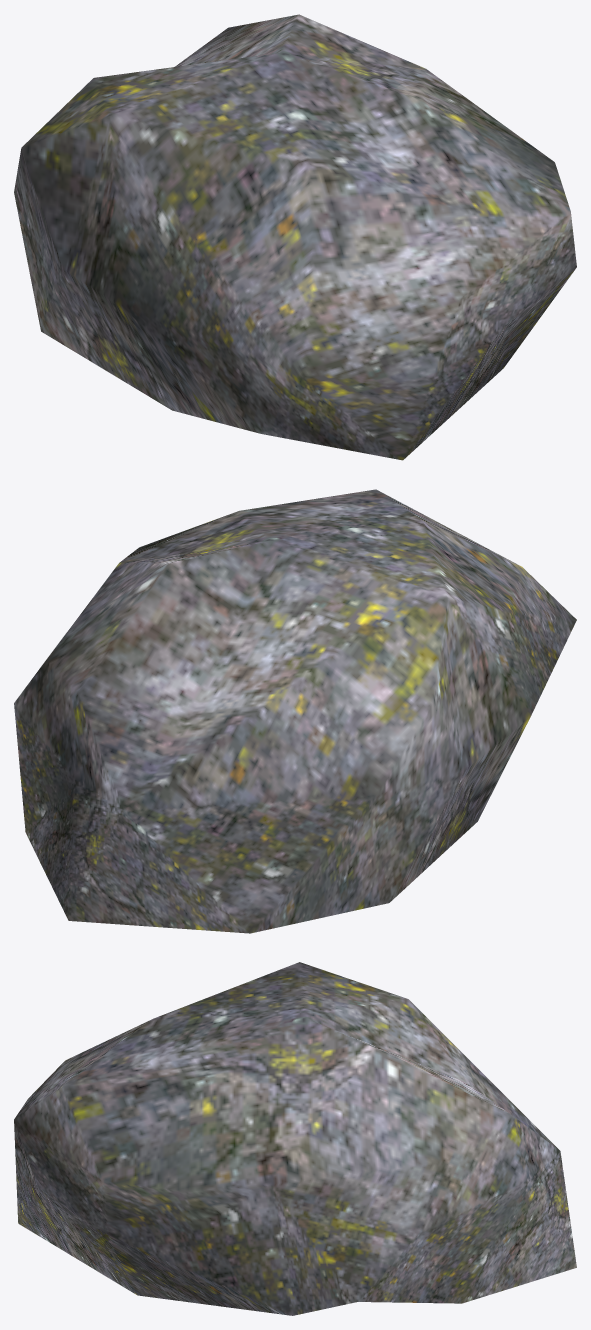
Rendered from rock_weatheredmossy_medium_a1_l0.fbx.
The picture shows the model from 3 angles, top to bottom: view 1: azimuth 30°, elevation 25°; view 2: azimuth 150°, elevation 25°; view 3: azimuth 270°, elevation 25°; orthographic projection. The views are drawn at different scales.
Parts seen in each view (by area): view 1: mesh_node; view 2: mesh_node; view 3: mesh_node.
Boxes of the visible parts, x1,y1,x2,y2 form: mesh_node: [14, 14, 576, 460]; mesh_node: [14, 489, 576, 933]; mesh_node: [14, 962, 576, 1315].
Size of the model in its own units: 0.2855 by 0.1853 by 0.4.
1 material, 1 textured.
